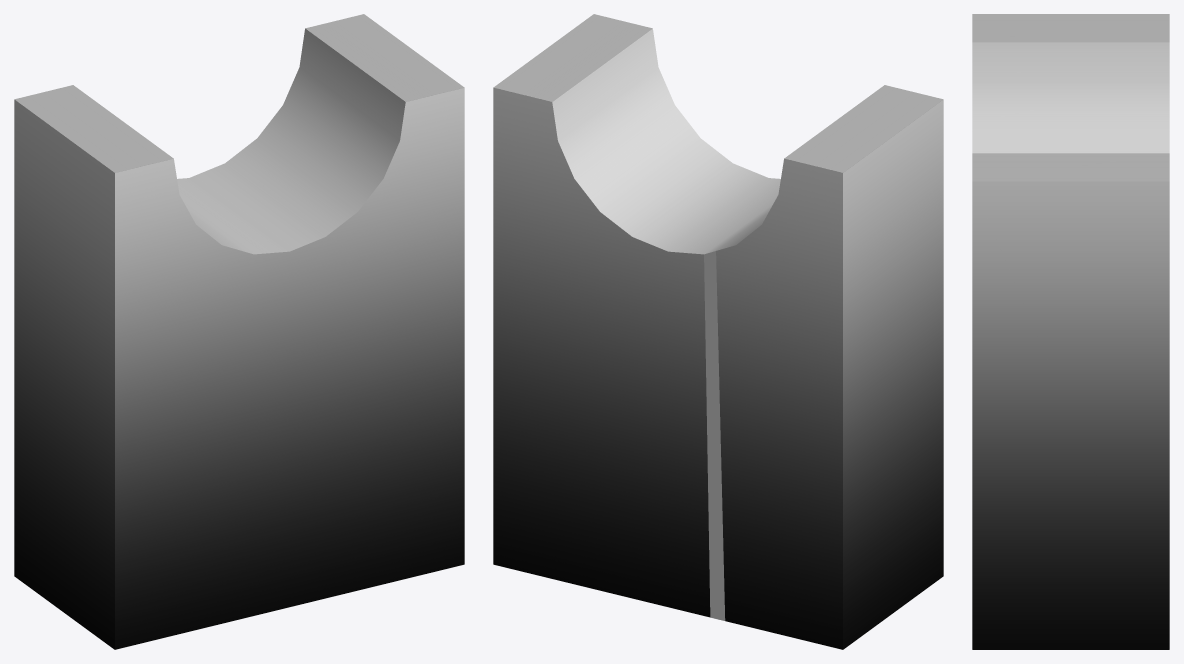
File: BG_wall_variation_ligned.fbx
The picture shows the model from 3 angles, left to right: view 1: azimuth 30°, elevation 25°; view 2: azimuth 150°, elevation 25°; view 3: azimuth 270°, elevation 25°; orthographic projection.
Parts seen in each view (by area): view 1: BG_wall_variation_ligned; view 2: BG_wall_variation_ligned; view 3: BG_wall_variation_ligned.
Boxes of the visible parts, x1,y1,x2,y2 form: BG_wall_variation_ligned: [14, 14, 464, 649]; BG_wall_variation_ligned: [493, 14, 943, 649]; BG_wall_variation_ligned: [972, 14, 1169, 649].
Size of the model in its own units: 2048 by 2668 by 1020.
